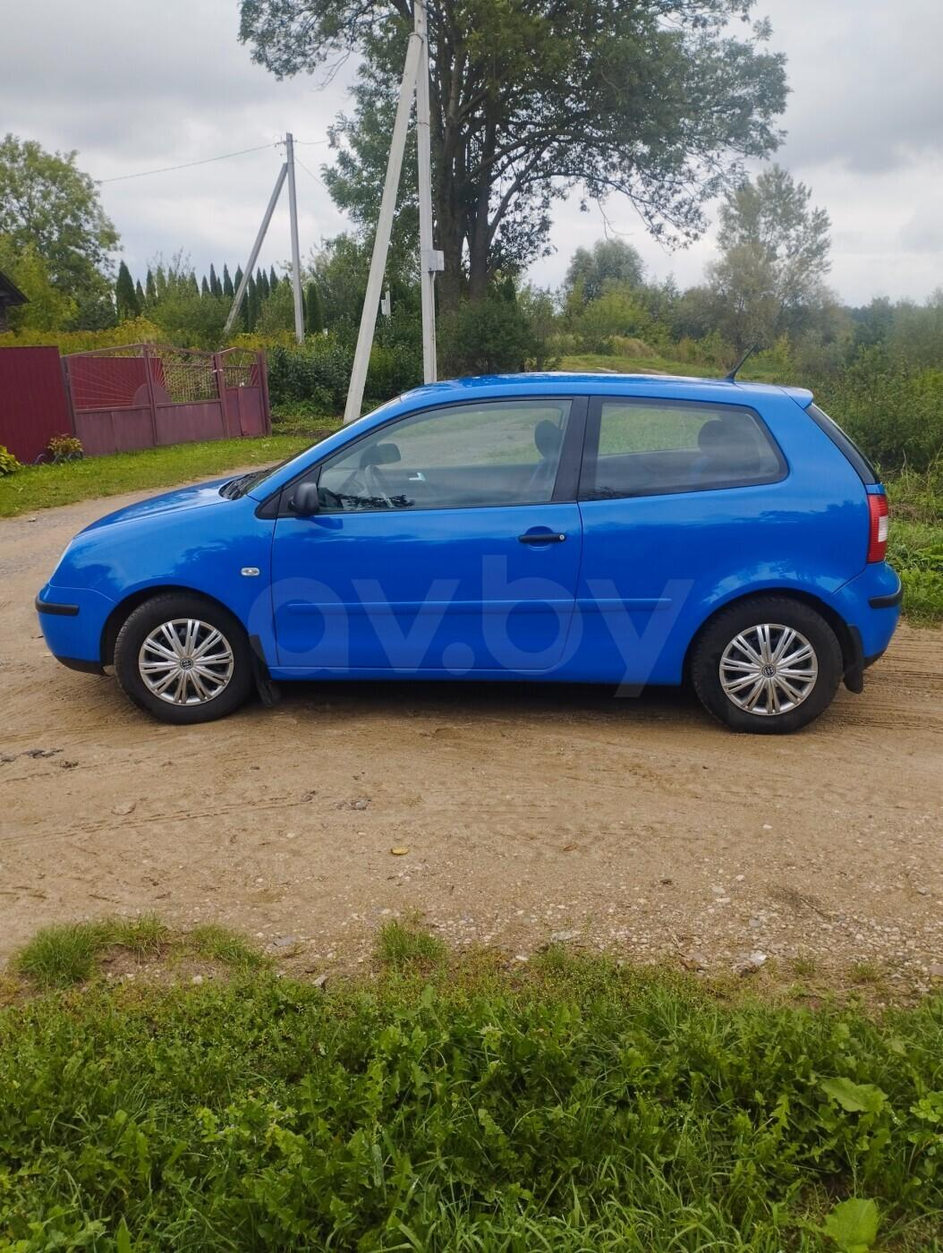Polo_2001-2005: (34, 367, 901, 741)
